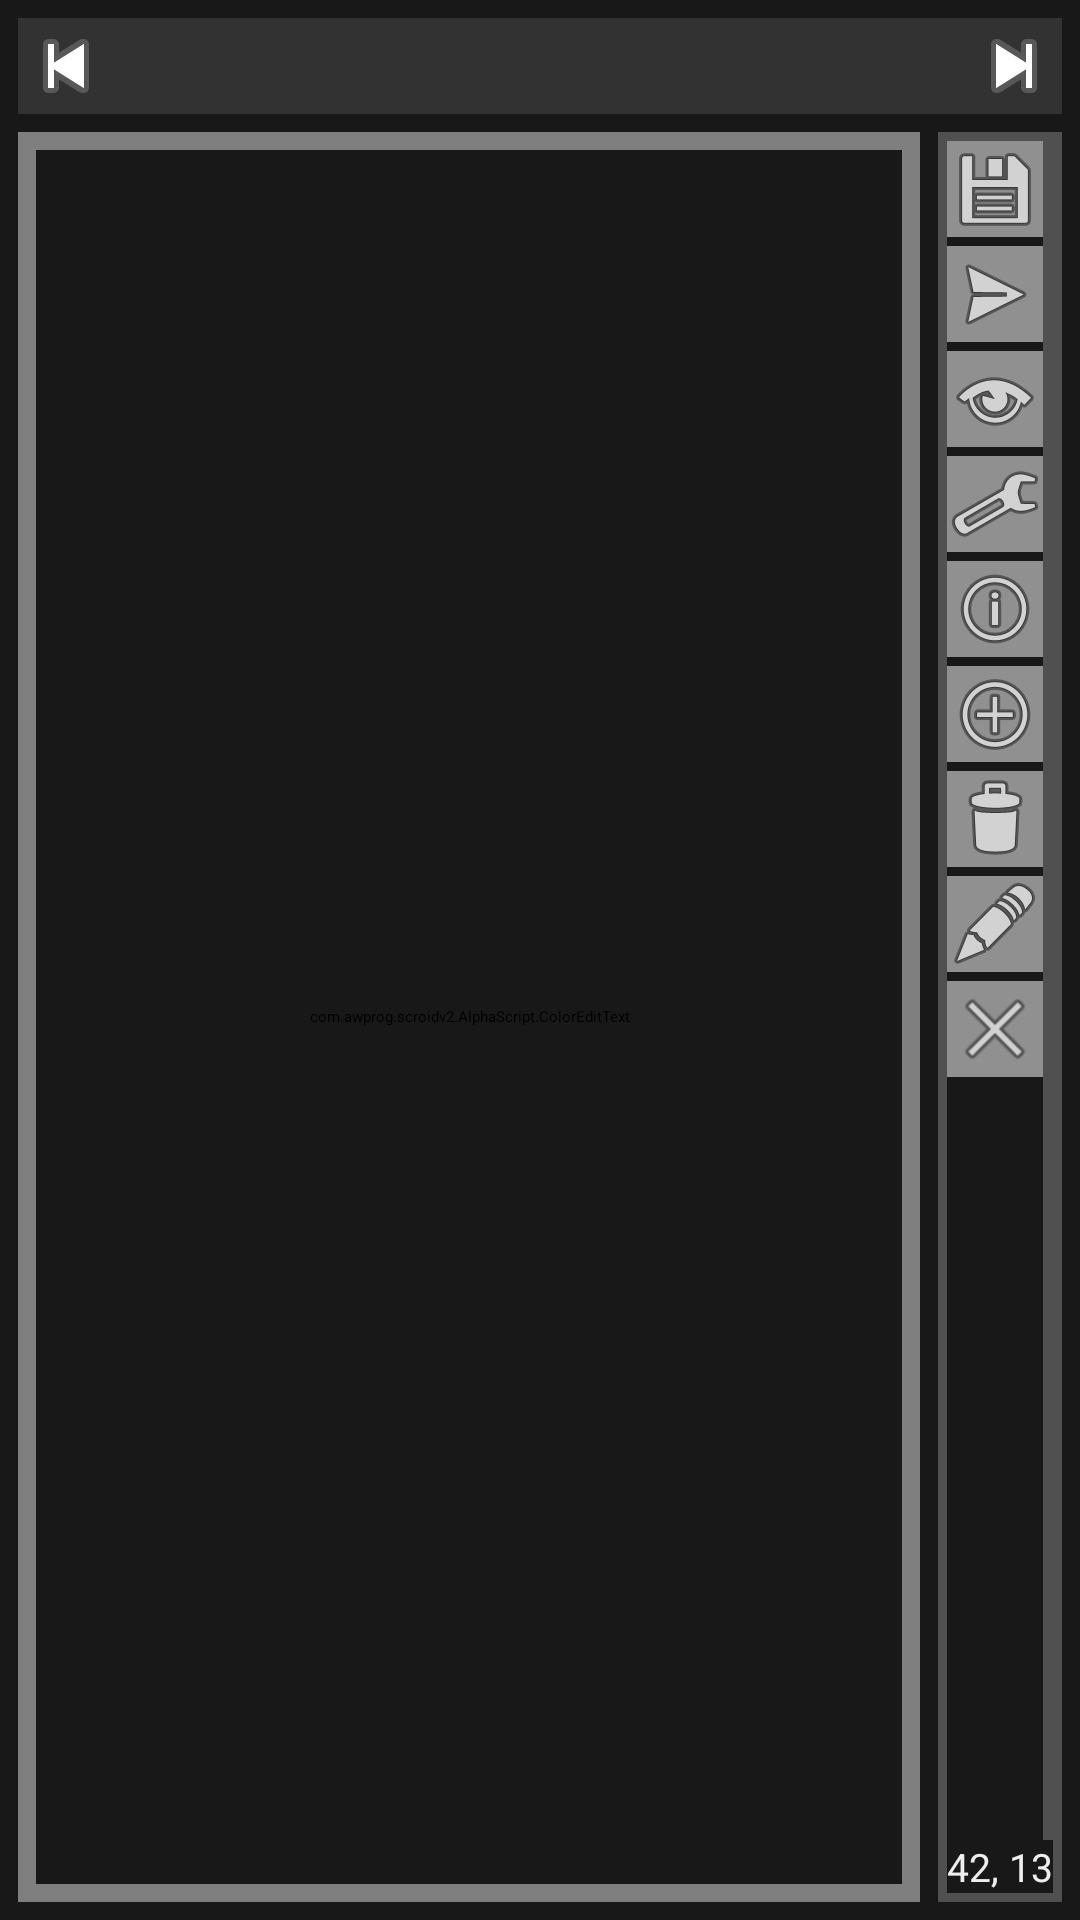

Where to tap for icons on this 1080×1920 app screen, as point (x, y):
add: point (995, 714)
close clear cancel: point (995, 1029)
delete: point (995, 819)
info details: point (995, 609)
manage: point (995, 504)
next: point (1014, 66)
previous: point (66, 66)
save: point (995, 189)
send: point (995, 294)
view: point (995, 399)
